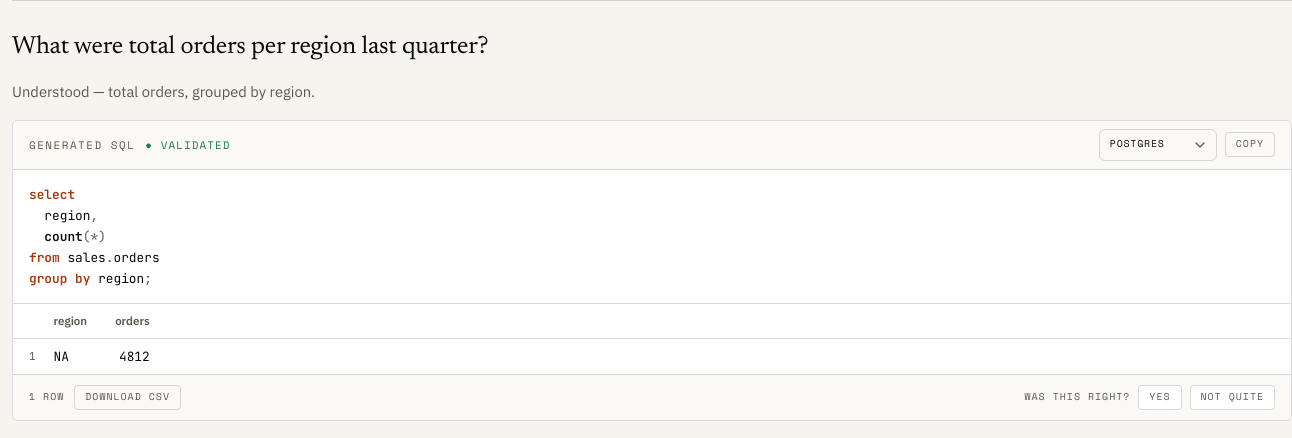
MessageTurn › switching the dialect selector updates its displayed value
Click the dropdown at (1158, 145), box [1099,129,1217,161]
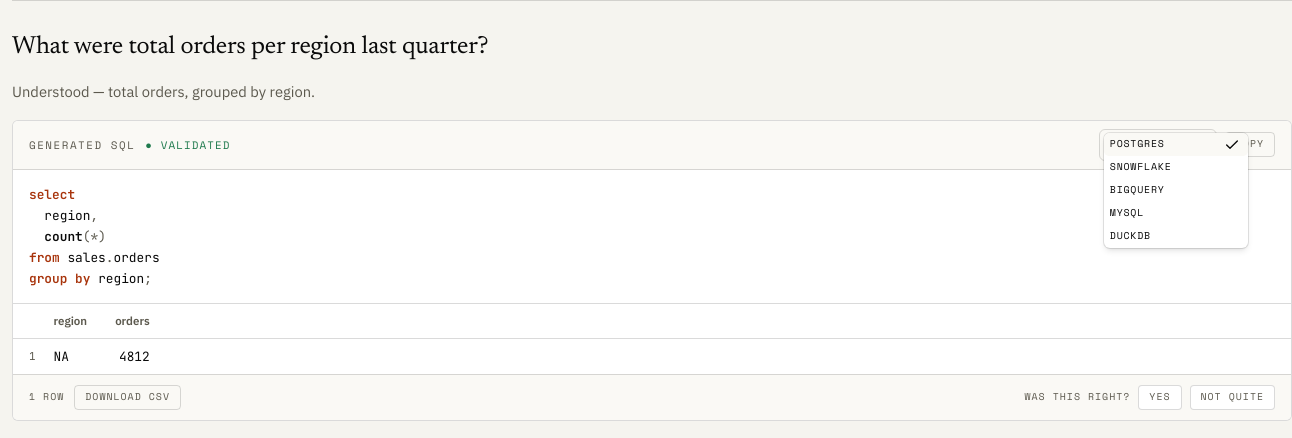
Click the option "Snowflake" at (1141, 167), box [1110,159,1172,174]
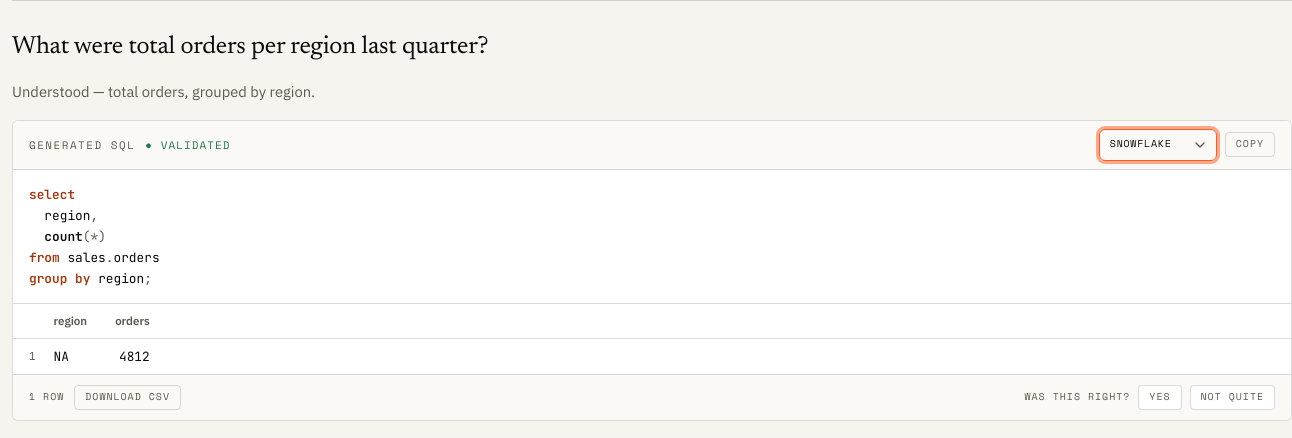
Expected: the dropdown shows "Snowflake", [1099,129,1217,161]
